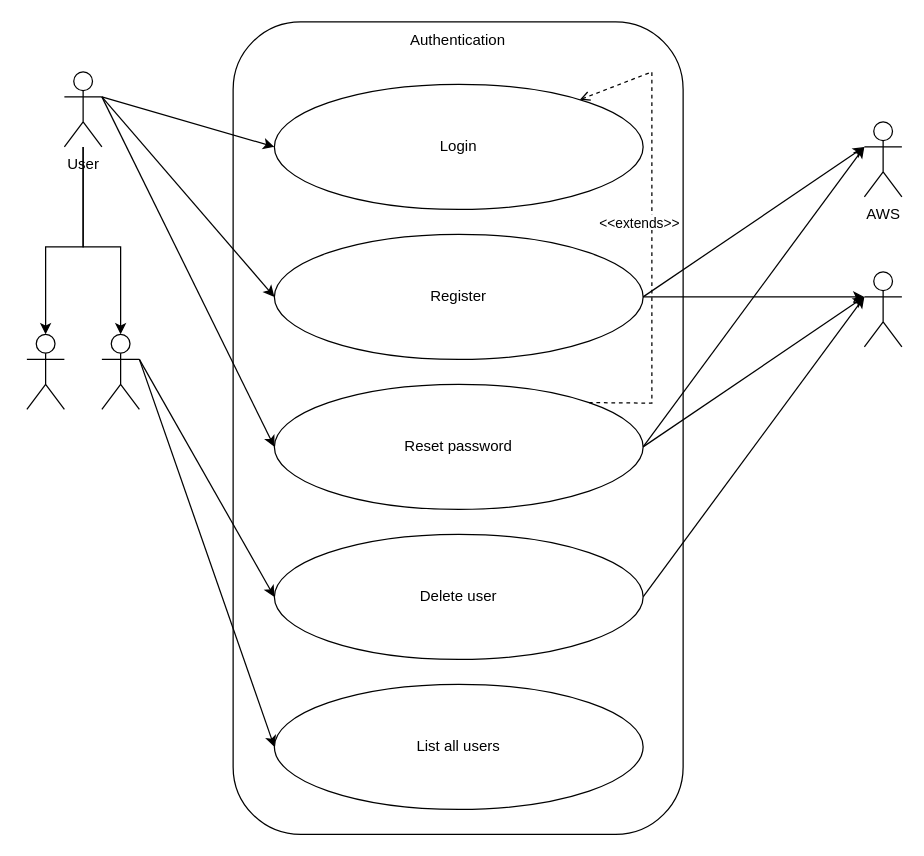
Image size: 924x856. Some labels were removed from this diagram. Each missing label, with the centre of its shape:
"Admin" goes at [120,371].
"DB" goes at [882,309].
"Normal" goes at [45,371].
